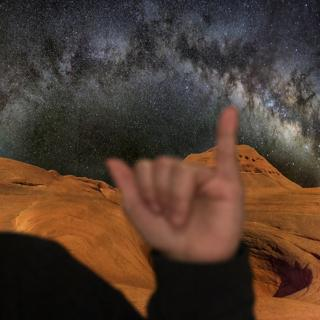HAVE: (98, 98, 264, 268)
